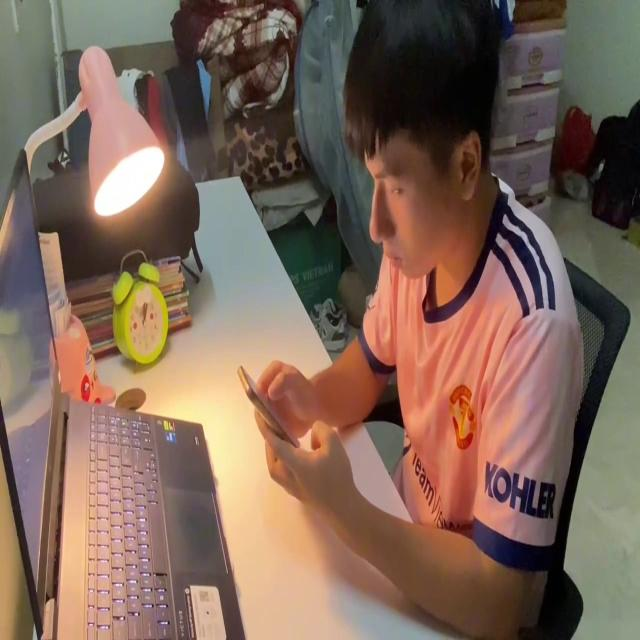laptop: (1, 146, 250, 640)
phone: (236, 359, 307, 455)
student: (255, 0, 583, 640)
